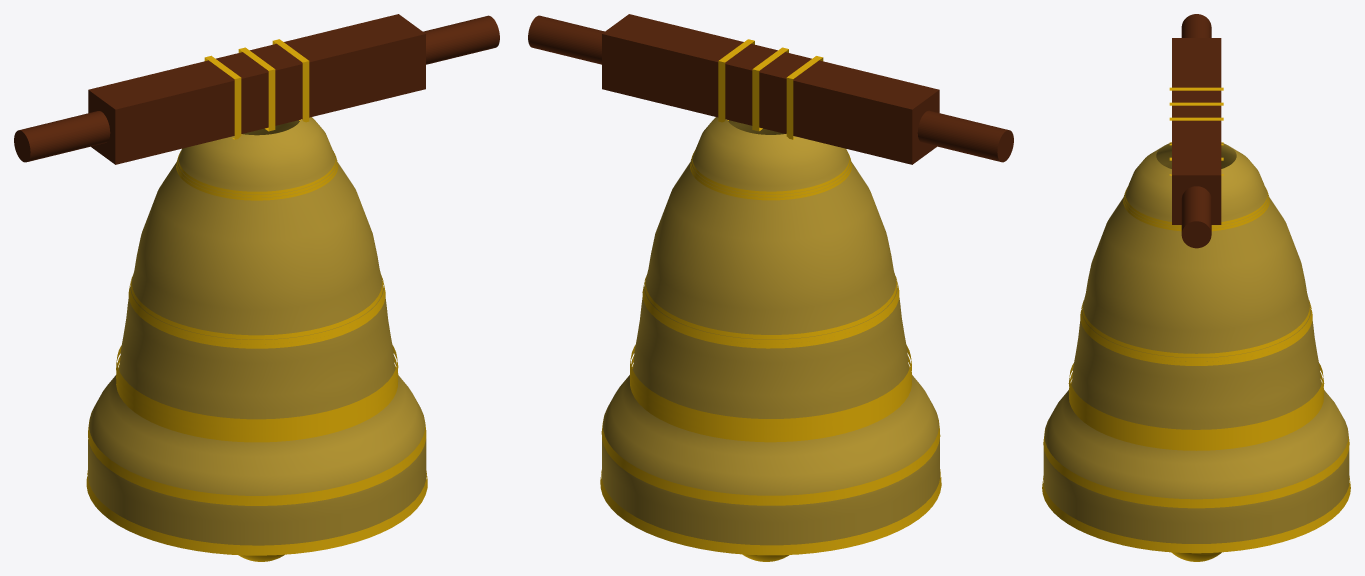
Rendered from bell.gltf.
3 views of the same model, side by side, from view 1: azimuth 30°, elevation 25°; view 2: azimuth 150°, elevation 25°; view 3: azimuth 270°, elevation 25° (orthographic). The views are drawn at different scales.
Parts seen in each view (by area): view 1: Bell; view 2: Bell; view 3: Bell.
Part boxes in pixels (x1=…): Bell: x1=14, y1=14, x2=499, y2=555; Bell: x1=528, y1=14, x2=1013, y2=555; Bell: x1=1042, y1=14, x2=1350, y2=553.
Bounding box in the file's own units: 1.31 × 1.33 × 0.8244.
